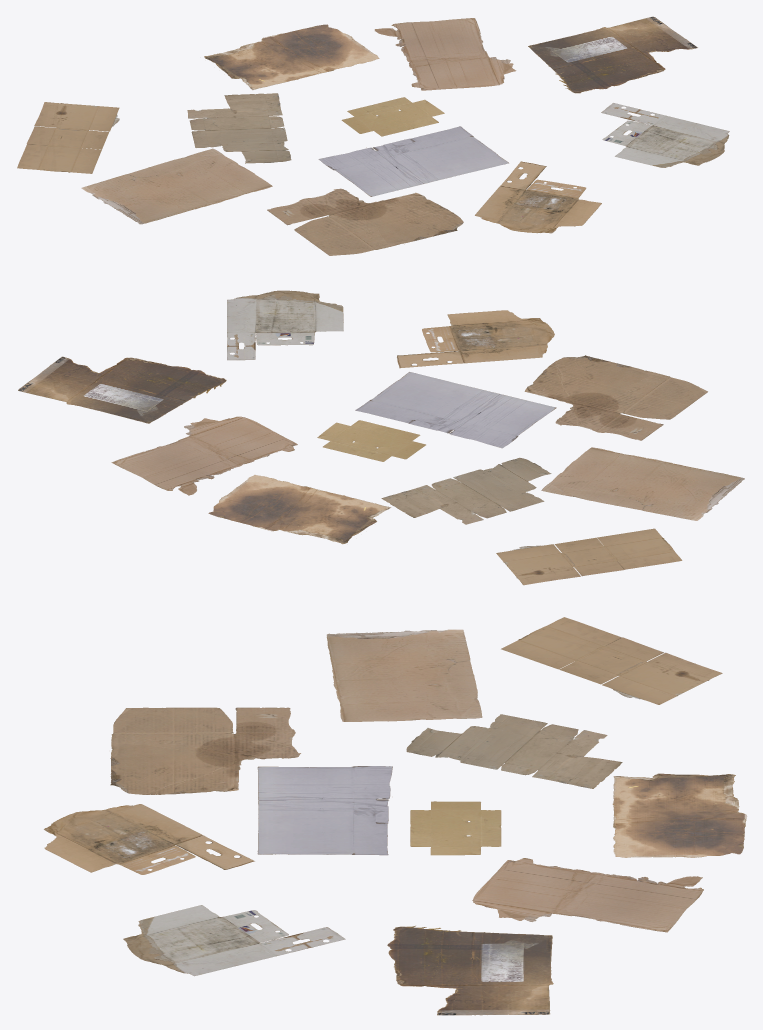
The model's file is SM_Cardboard_01.glb.
The picture shows the model from 3 angles, top to bottom: view 1: azimuth 30°, elevation 25°; view 2: azimuth 150°, elevation 25°; view 3: azimuth 270°, elevation 25°; orthographic projection. The views are drawn at different scales.
Parts seen in each view (by area): view 1: SM_Cardboard_01; view 2: SM_Cardboard_01; view 3: SM_Cardboard_01.
Boxes of the visible parts, x1=… form: SM_Cardboard_01: x1=17, y1=16, x2=729, y2=255; SM_Cardboard_01: x1=18, y1=290, x2=744, y2=585; SM_Cardboard_01: x1=44, y1=617, x2=747, y2=1015.
Size of the model in its own units: 4.24 by 0.0168 by 3.26.
Materials: 1 (1 with a texture image).
